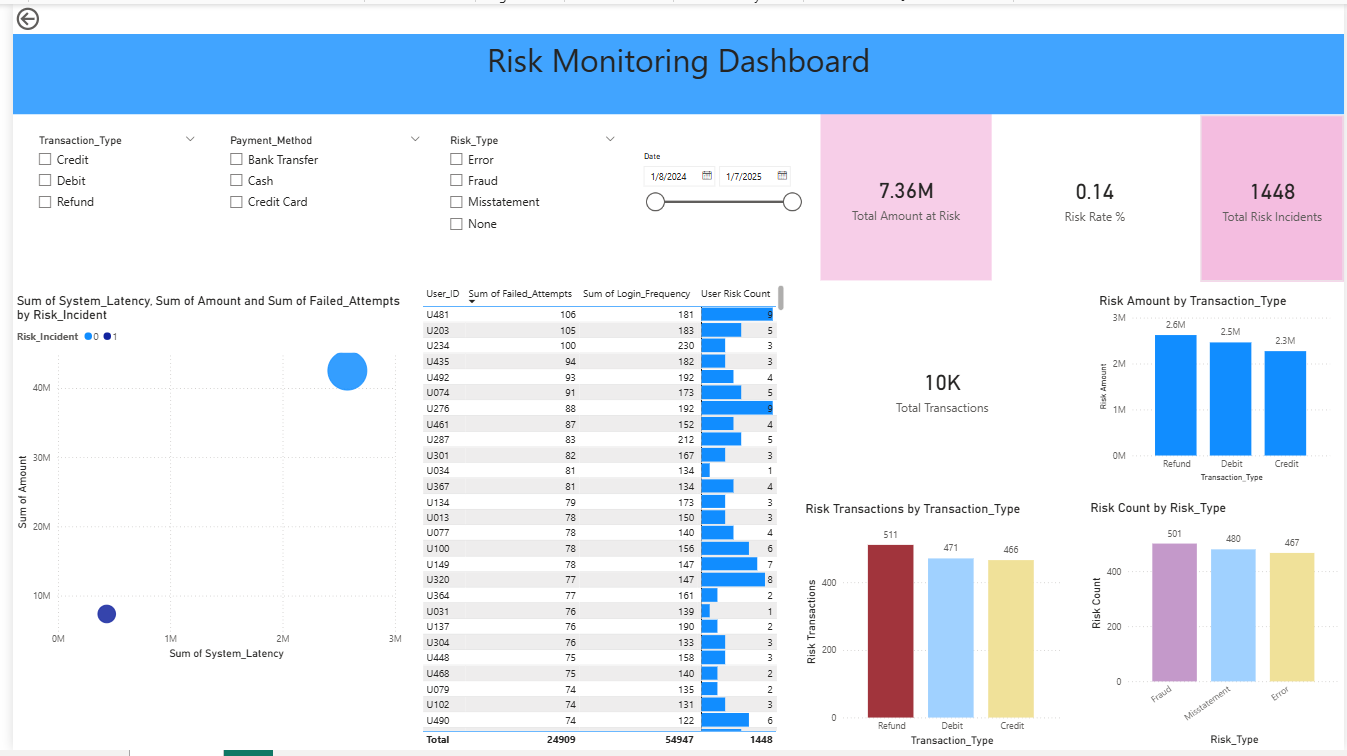

Layout of this report page (visuals, bound fields, positions):
{"tool":"powerbi","page":{"name":"Page 1","canvas":[1792,1004],"ordinal":0},"visuals":[{"type":"card","fields":{"Values":["accounting_dataset.Total Transactions"]},"box":[1086.8,388.6,328.1,259.1],"z":0},{"type":"card","fields":{"Values":["accounting_dataset.Total Risk Incidents"]},"box":[1598.2,149.7,193.5,223.7],"z":1000},{"type":"card","fields":{"Values":["accounting_dataset.Risk Rate %"]},"box":[1329,149.7,254,223.7],"z":2000},{"type":"card","fields":{"Values":["accounting_dataset.Total Amount at Risk"]},"box":[1086.8,148,230.5,223.7],"z":3000},{"type":"clusteredColumnChart","fields":{"Y":["accounting_dataset.Risk Count"],"Category":["accounting_dataset.Risk_Type"]},"box":[1445.1,667.9,346.6,334.8],"z":4000},{"type":"actionButton","box":[0,0,100,40],"z":5000},{"type":"clusteredColumnChart","fields":{"Category":["accounting_dataset.Transaction_Type"],"Y":["accounting_dataset.Risk Transactions"]},"box":[1061.5,669.6,353.3,334.8],"z":6000},{"type":"clusteredColumnChart","fields":{"Category":["accounting_dataset.Transaction_Type"],"Y":["accounting_dataset.Risk Amount"]},"box":[1456.9,388.6,321.3,259.1],"z":7000},{"type":"tableEx","fields":{"Values":["accounting_dataset.User_ID","Sum(accounting_dataset.Failed_Attempts)","Sum(accounting_dataset.Login_Frequency)","accounting_dataset.User Risk Count"]},"box":[545.1,373.5,498,630.9],"z":8000},{"type":"scatterChart","fields":{"X":["Sum(accounting_dataset.System_Latency)"],"Y":["Sum(accounting_dataset.Amount)"],"Size":["Sum(accounting_dataset.Failed_Attempts)"],"Series":["accounting_dataset.Risk_Incident"]},"box":[0,388.6,528.2,498],"z":9000},{"type":"slicer","fields":{"Values":["accounting_dataset.Date"]},"box":[836.1,193.5,233.8,124.5],"z":10000},{"type":"slicer","fields":{"Values":["accounting_dataset.Transaction_Type"]},"box":[21.9,169.9,235.5,181.7],"z":11000},{"type":"slicer","fields":{"Values":["accounting_dataset.Payment_Method"]},"box":[279.3,169.9,280.9,181.7],"z":12000},{"type":"slicer","fields":{"Values":["accounting_dataset.Risk_Type"]},"box":[575.4,169.9,247.3,171.6],"z":13000},{"type":"textbox","box":[0,40.4,1791.7,107.7],"z":14000}]}

Visuals, with their boxes on the page's 1792x1004 design canvas (x1, y1, x2, y2). These are canvas units, not pixel positions in the 1347x756 screenshot, which may show the page scaled, cropped or inside an application window:
card - accounting_dataset.Total Transactions: locate(1087, 389, 1415, 648)
card - accounting_dataset.Total Risk Incidents: locate(1598, 150, 1792, 373)
card - accounting_dataset.Risk Rate %: locate(1329, 150, 1583, 373)
card - accounting_dataset.Total Amount at Risk: locate(1087, 148, 1317, 372)
clusteredColumnChart - accounting_dataset.Risk Count x accounting_dataset.Risk_Type: locate(1445, 668, 1792, 1003)
actionButton: locate(0, 0, 100, 40)
clusteredColumnChart - accounting_dataset.Transaction_Type x accounting_dataset.Risk Transactions: locate(1062, 670, 1415, 1004)
clusteredColumnChart - accounting_dataset.Transaction_Type x accounting_dataset.Risk Amount: locate(1457, 389, 1778, 648)
tableEx - accounting_dataset.User_ID x Sum(accounting_dataset.Failed_Attempts): locate(545, 374, 1043, 1004)
scatterChart - Sum(accounting_dataset.System_Latency) x Sum(accounting_dataset.Amount): locate(0, 389, 528, 887)
slicer - accounting_dataset.Date: locate(836, 194, 1070, 318)
slicer - accounting_dataset.Transaction_Type: locate(22, 170, 257, 352)
slicer - accounting_dataset.Payment_Method: locate(279, 170, 560, 352)
slicer - accounting_dataset.Risk_Type: locate(575, 170, 823, 342)
textbox: locate(0, 40, 1792, 148)
